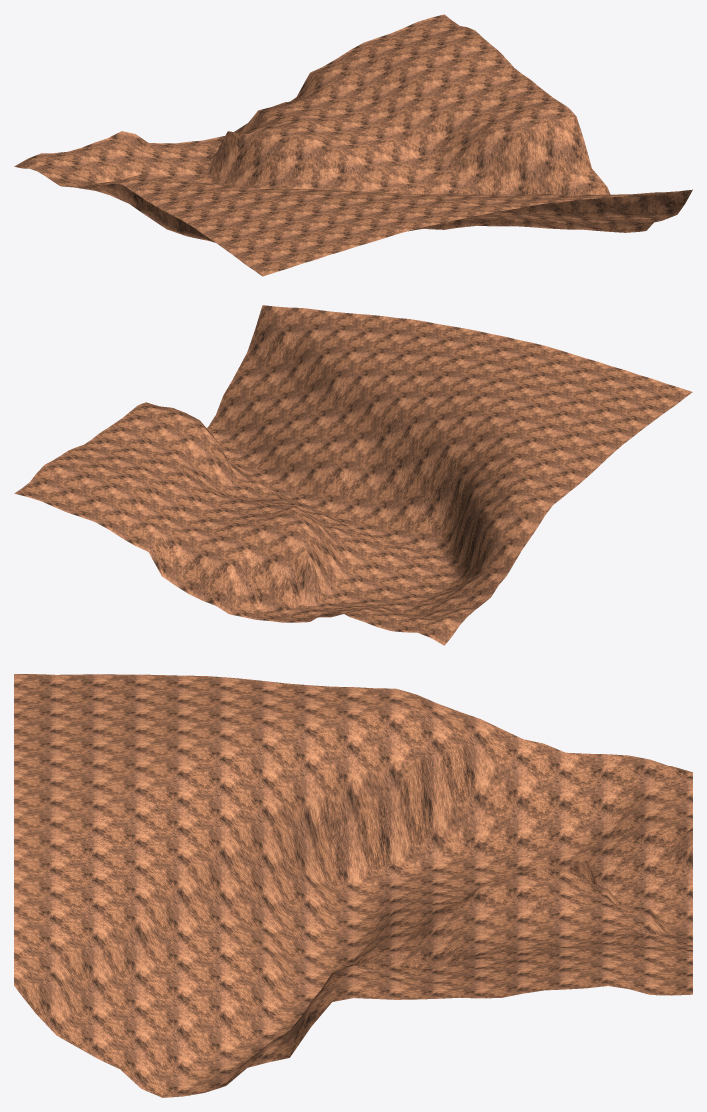
The model's file is terrain_02_17.dae.
3 views of the same model, one above another, from view 1: azimuth 30°, elevation 25°; view 2: azimuth 150°, elevation 25°; view 3: azimuth 270°, elevation 25° (orthographic). The views are drawn at different scales.
Parts seen in each view (by area): view 1: terrain_02_17-node; view 2: terrain_02_17-node; view 3: terrain_02_17-node.
Part boxes in pixels (left/top/right/bottom): terrain_02_17-node: left=14, top=14, right=692, bottom=276; terrain_02_17-node: left=14, top=305, right=692, bottom=645; terrain_02_17-node: left=14, top=674, right=692, bottom=1097.
Size of the model in its own units: 128 by 128 by 31.34.
Materials: 1 (1 with a texture image).
